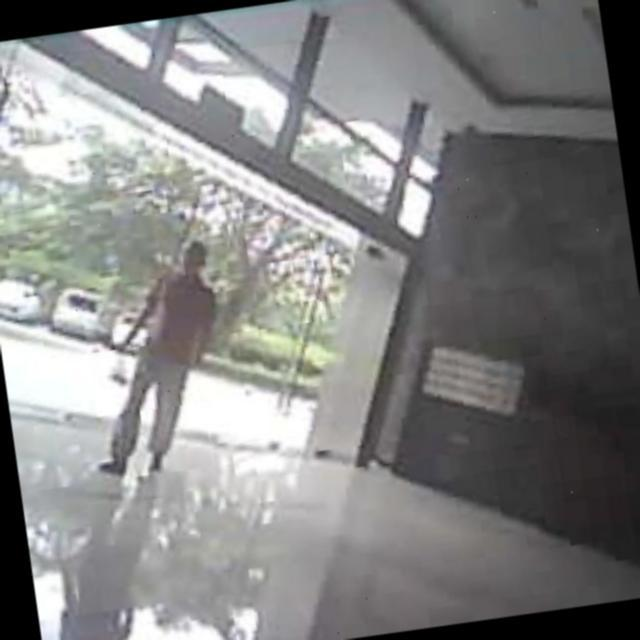person: (70, 234, 252, 482)
